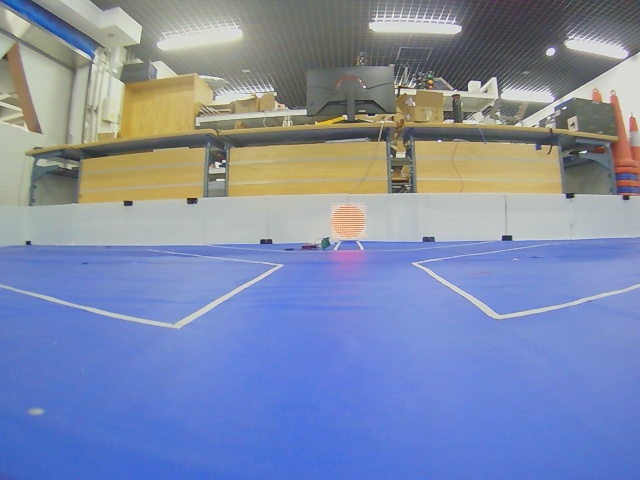red: (331, 204, 366, 240)
